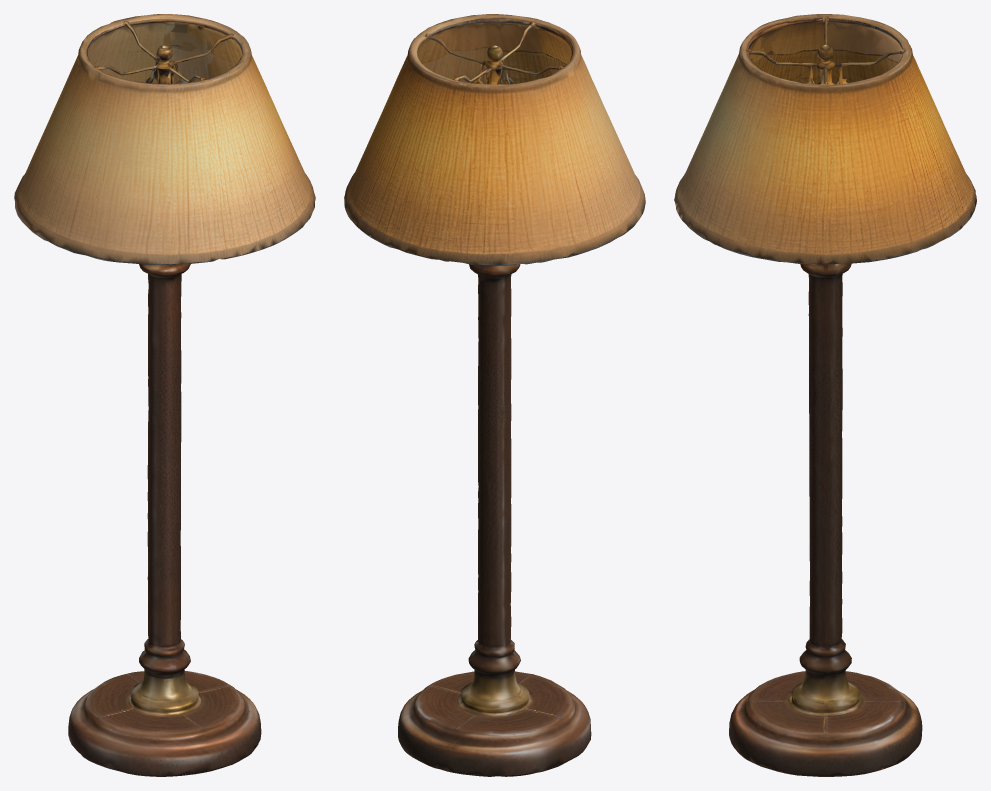
Rendered from VAR_LivingRoom_FloorLamp.fbx.
3 renders of one model, left to right at view 1: azimuth 30°, elevation 25°; view 2: azimuth 150°, elevation 25°; view 3: azimuth 270°, elevation 25°, orthographic.
Parts seen in each view (by area): view 1: texture_mapping; view 2: texture_mapping; view 3: texture_mapping.
Boxes of the visible parts, bbox=[...] form: texture_mapping: bbox=[14, 14, 315, 776]; texture_mapping: bbox=[344, 14, 645, 776]; texture_mapping: bbox=[674, 14, 976, 776].
Bounding box in the file's own units: 0.397 × 0.3976 × 1.
1 material, 1 textured.
